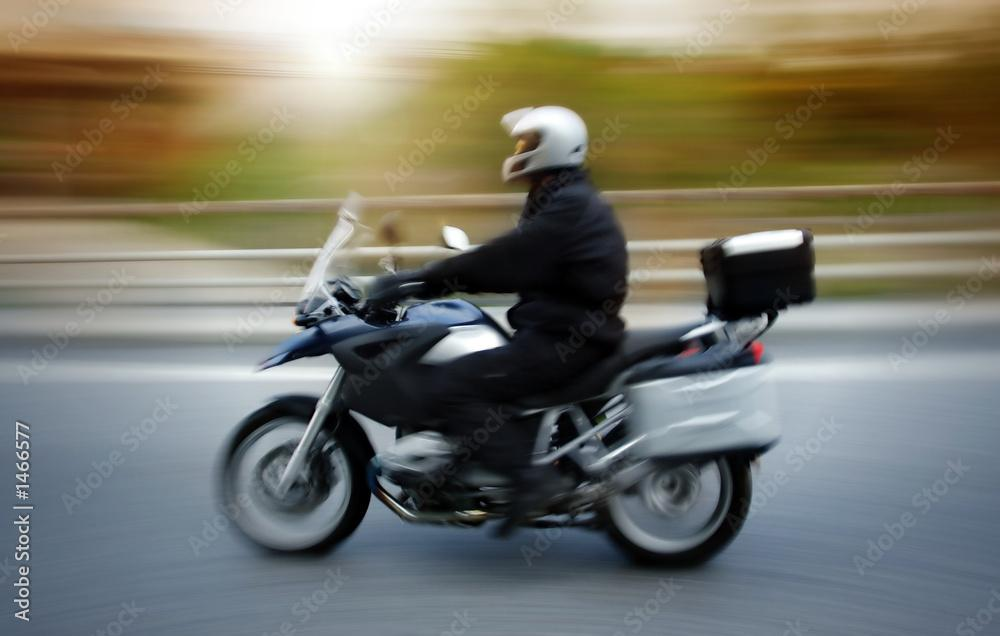helmet: (499, 104, 590, 186)
